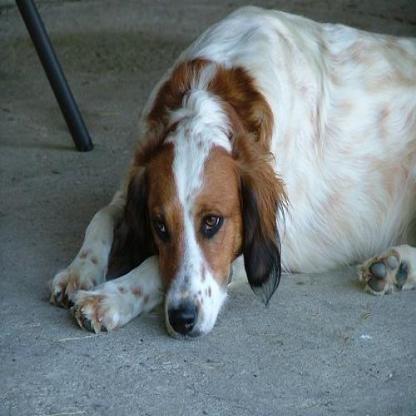English_setter: (44, 3, 414, 338)
